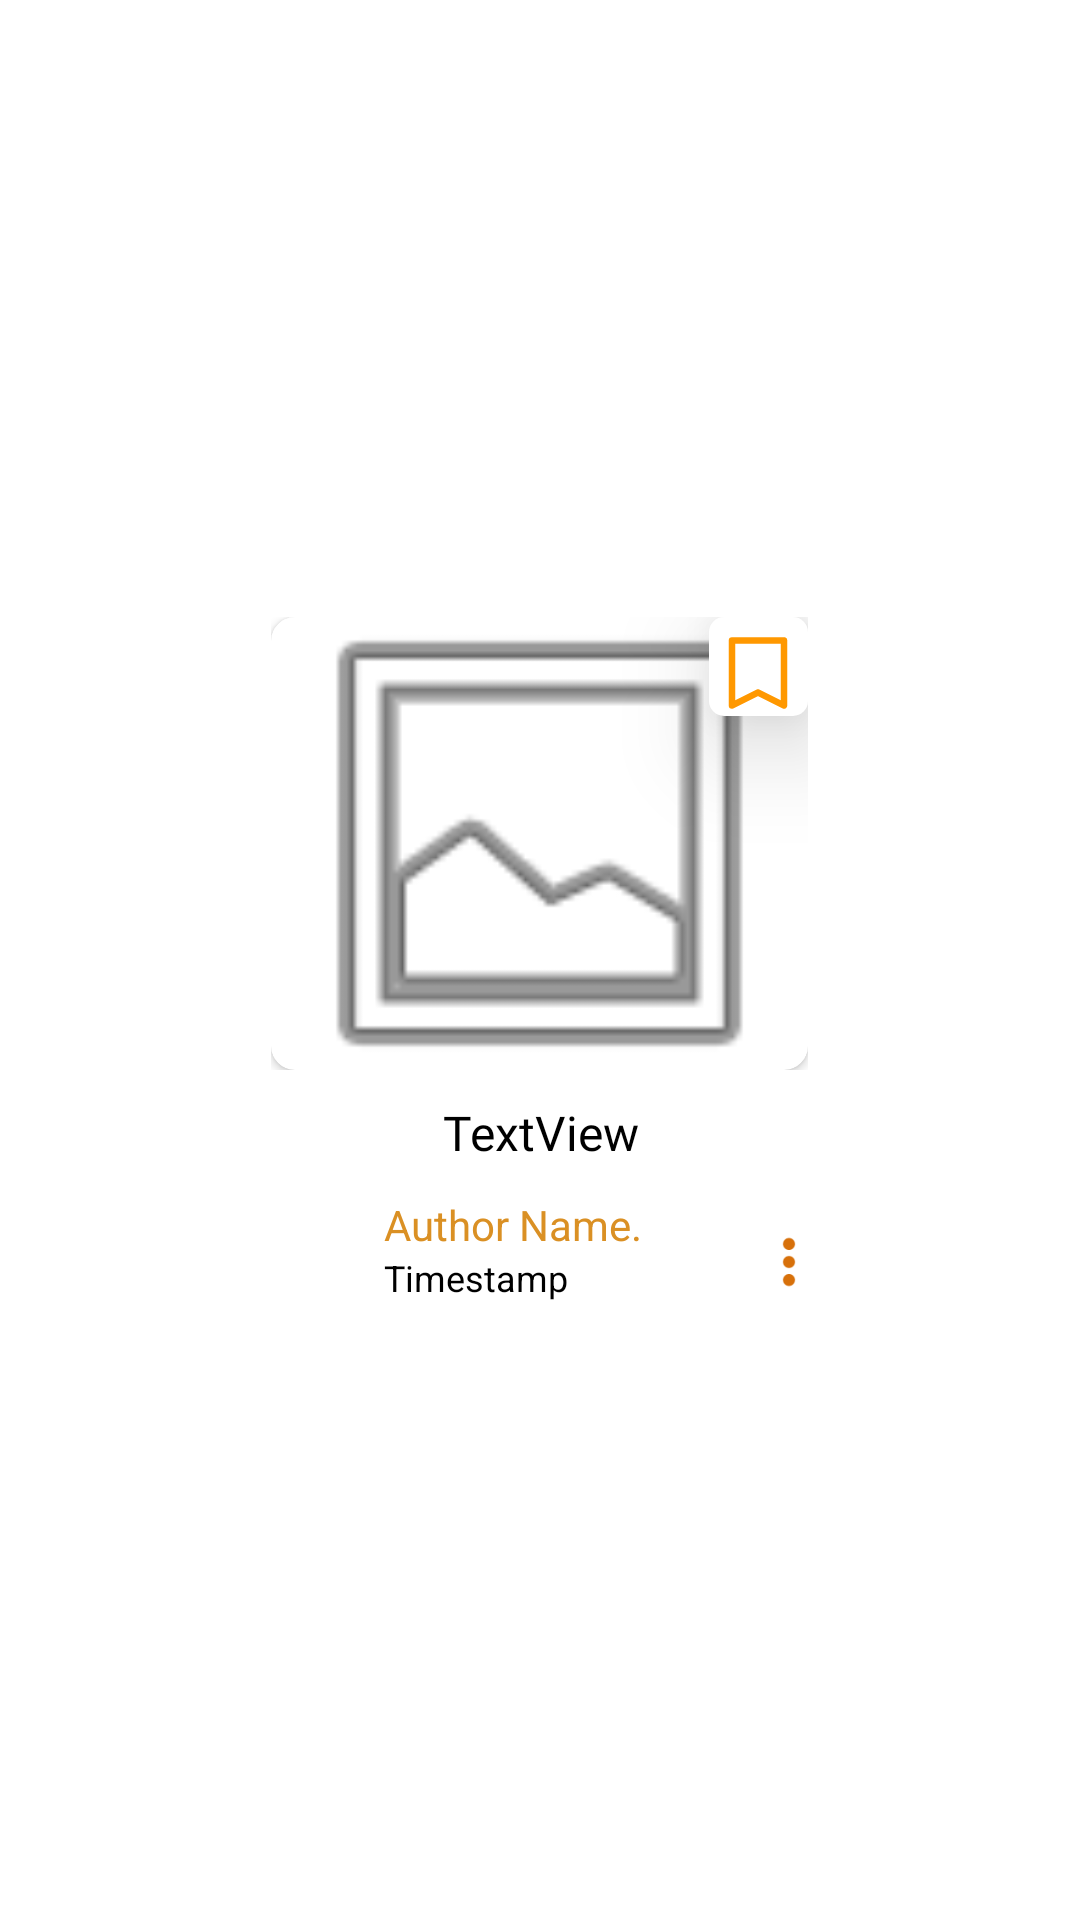

Where icons sit on this 1080px x 1920px app screen, as (x1, y1, x2, y2):
vert: (782, 1237, 796, 1287)
